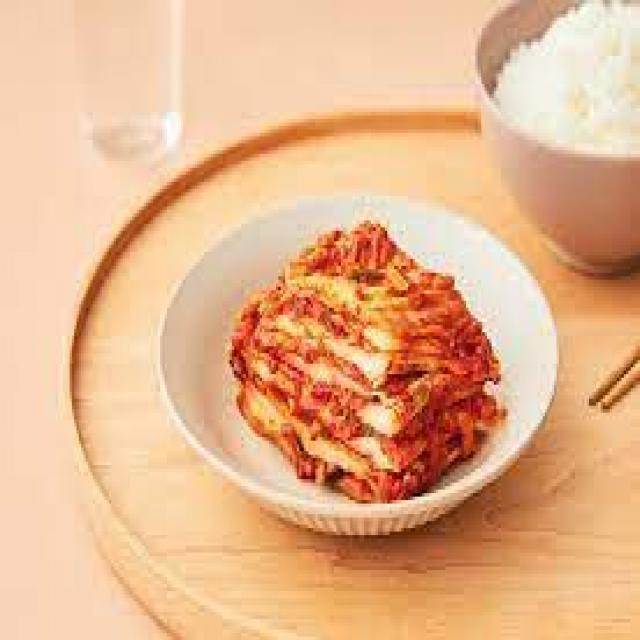kimchi: (232, 220, 480, 472)
